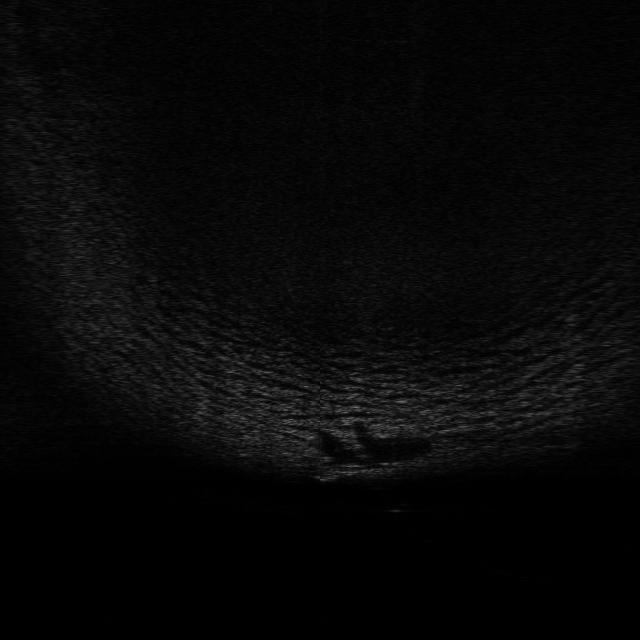plane: (316, 457, 406, 484)
